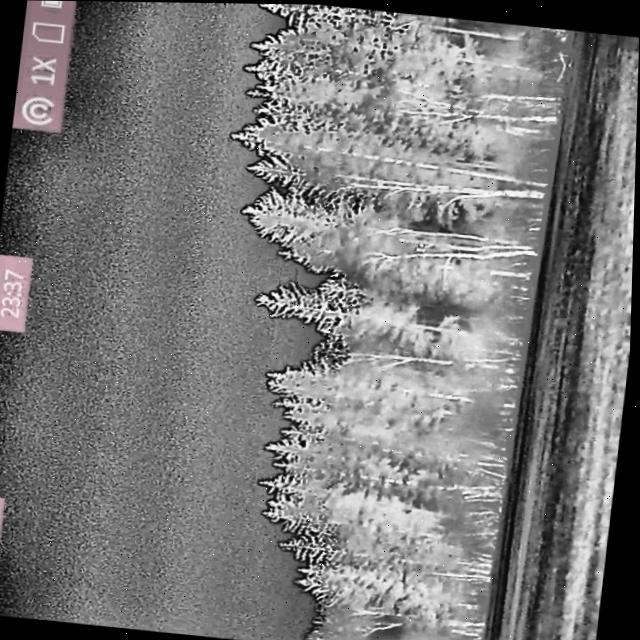drone: (416, 239, 429, 256)
